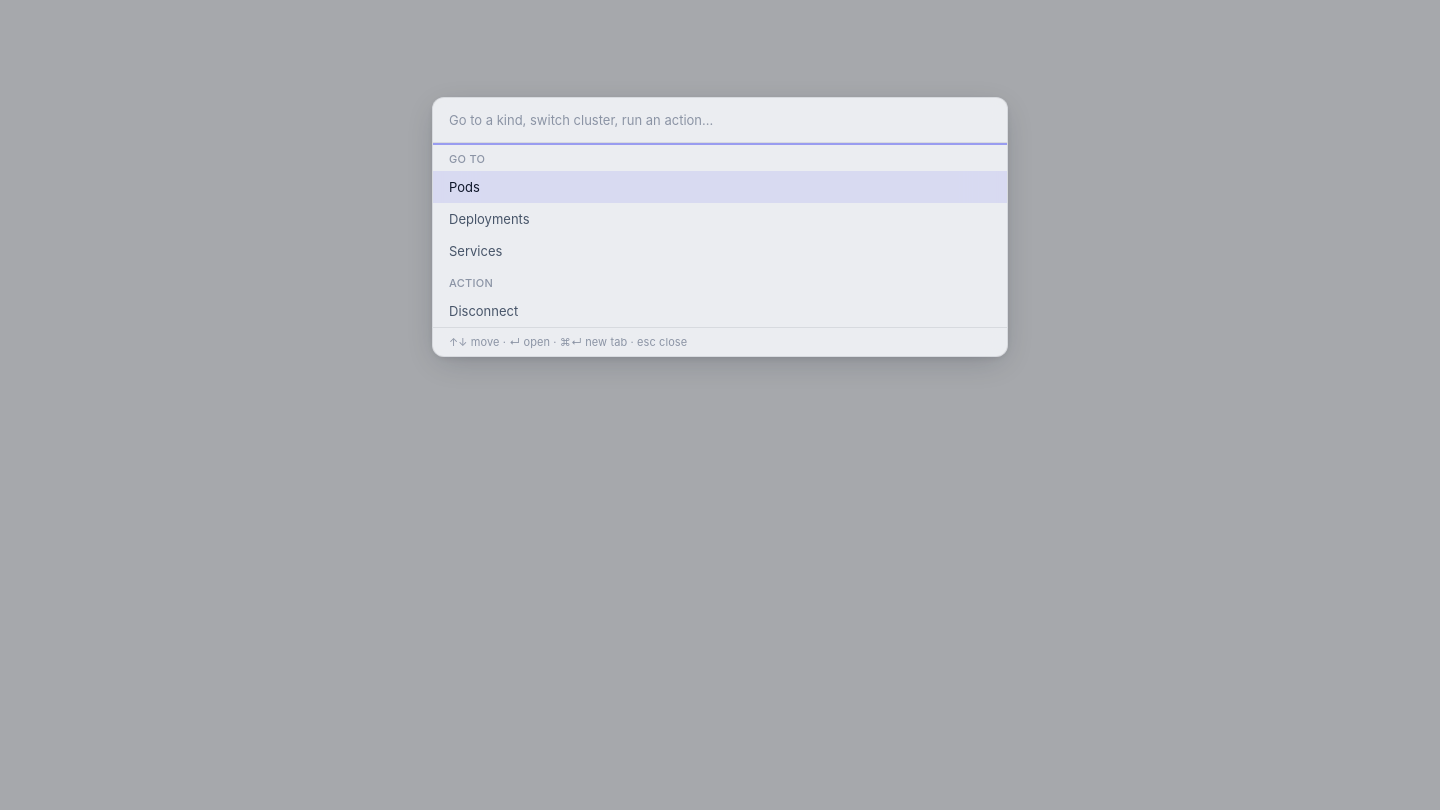
Test: CommandPalette › narrows as you type
Type "deploy" into the field named "Command".
click(720, 121); type("deploy")  # box [433,98,1007,143]
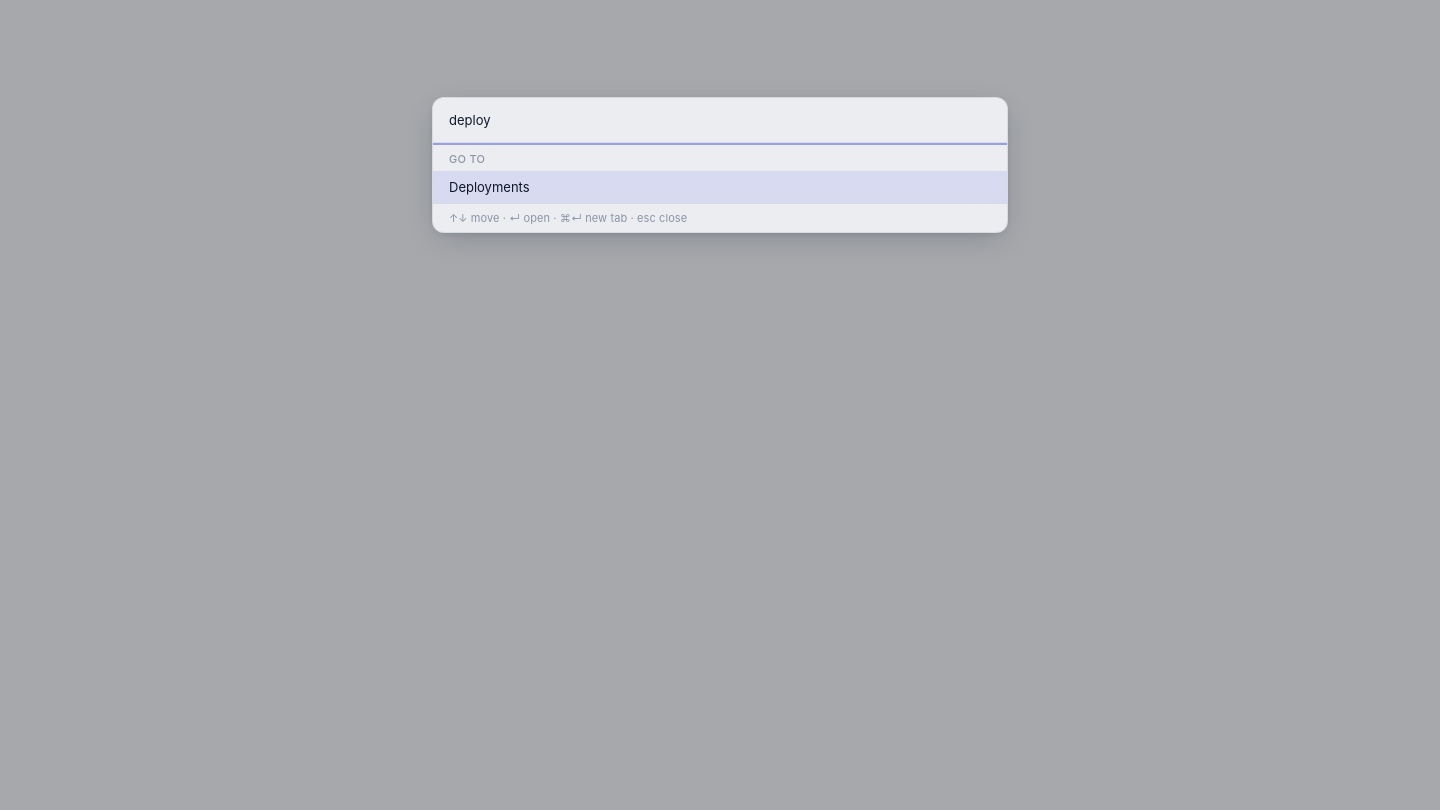
expect the button "Deployments" is shown: met, box [433,171,1007,203]
expect the button "Disconnect" is gone: met
